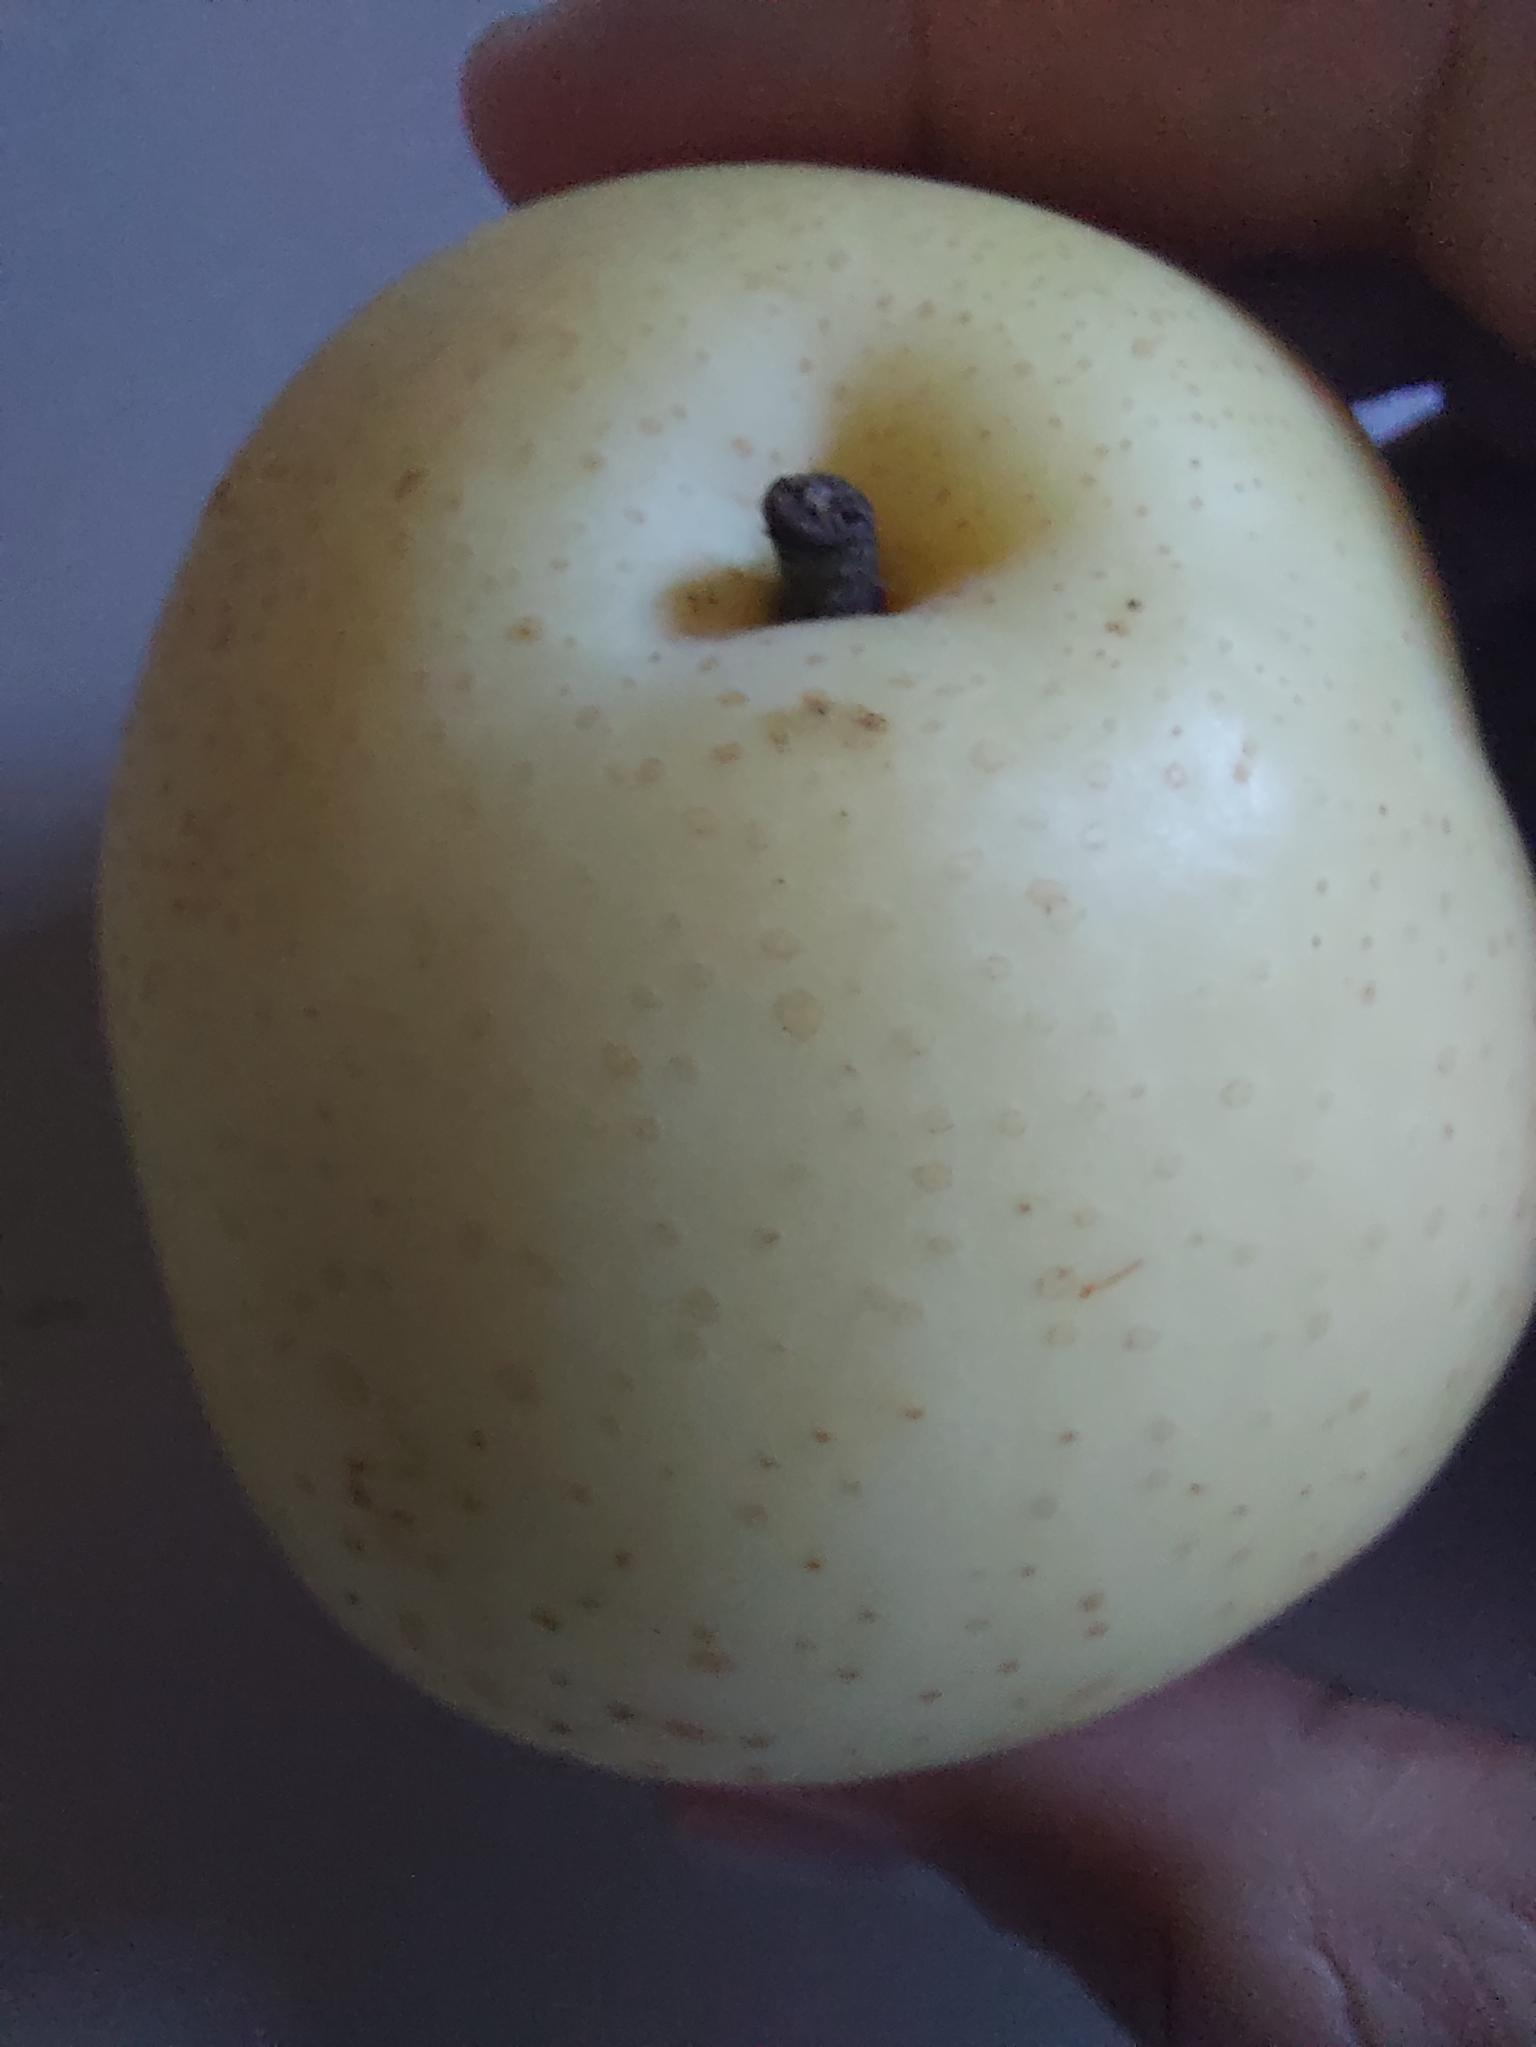Good Pear: (100, 152, 1536, 1772)
